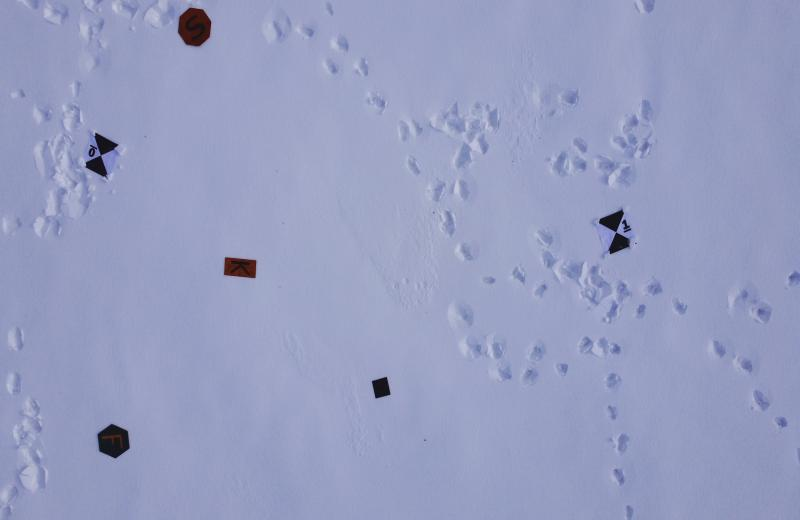Hexagon: (96, 420, 130, 461)
Octagon: (176, 7, 214, 48)
Rectangle: (222, 253, 258, 279)
Square: (372, 377, 392, 400)
